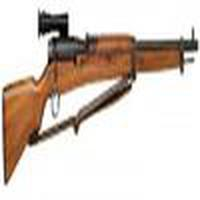gun: (1, 12, 200, 188)
